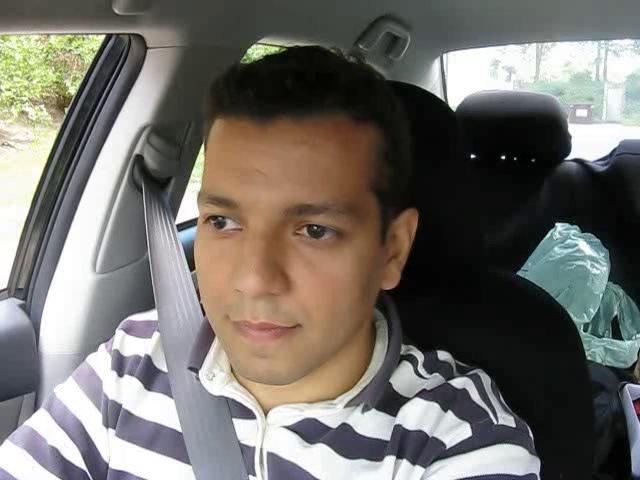no_yawn: (214, 305, 317, 351)
open_eyeL: (194, 200, 253, 244)
open_eyeR: (282, 211, 355, 252)
